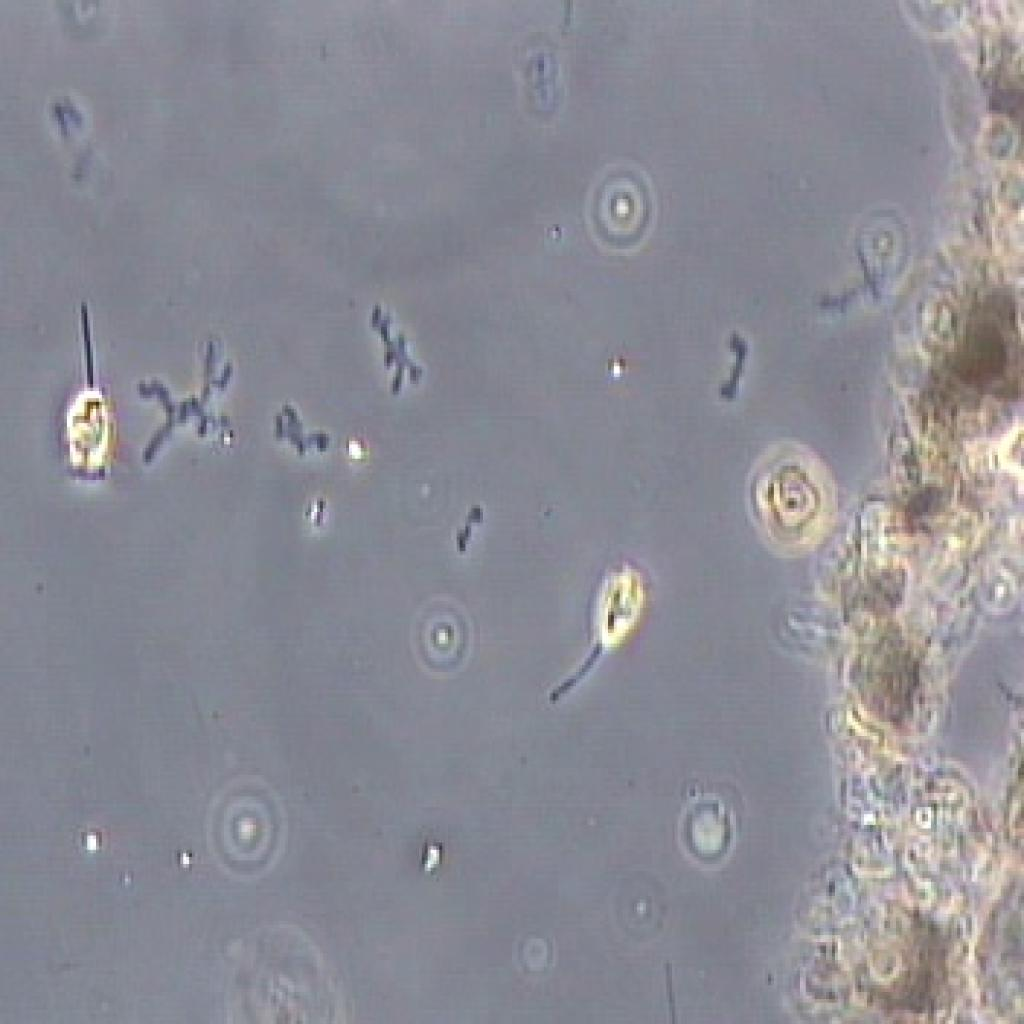Vorticella: (530, 526, 669, 732)
